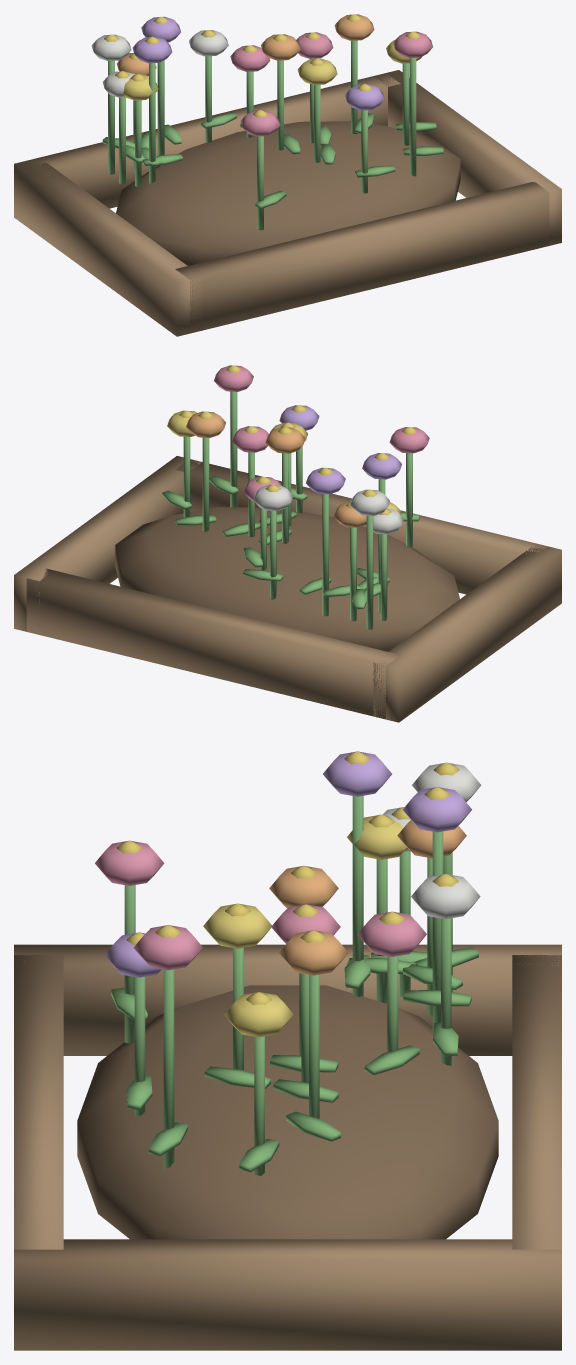
The model's file is flowerbed_lite.glb.
3 renders of one model, top to bottom at view 1: azimuth 30°, elevation 25°; view 2: azimuth 150°, elevation 25°; view 3: azimuth 270°, elevation 25°, orthographic. The views are drawn at different scales.
Parts seen in each view (by area): view 1: Cube; view 2: Cube; view 3: Cube.
Part boxes in pixels (left/top/right/bottom): Cube: left=14, top=14, right=561, bottom=336; Cube: left=14, top=365, right=561, bottom=722; Cube: left=14, top=751, right=561, bottom=1350.
Bounding box in the file's own units: 1.5 × 0.8222 × 1.1.
